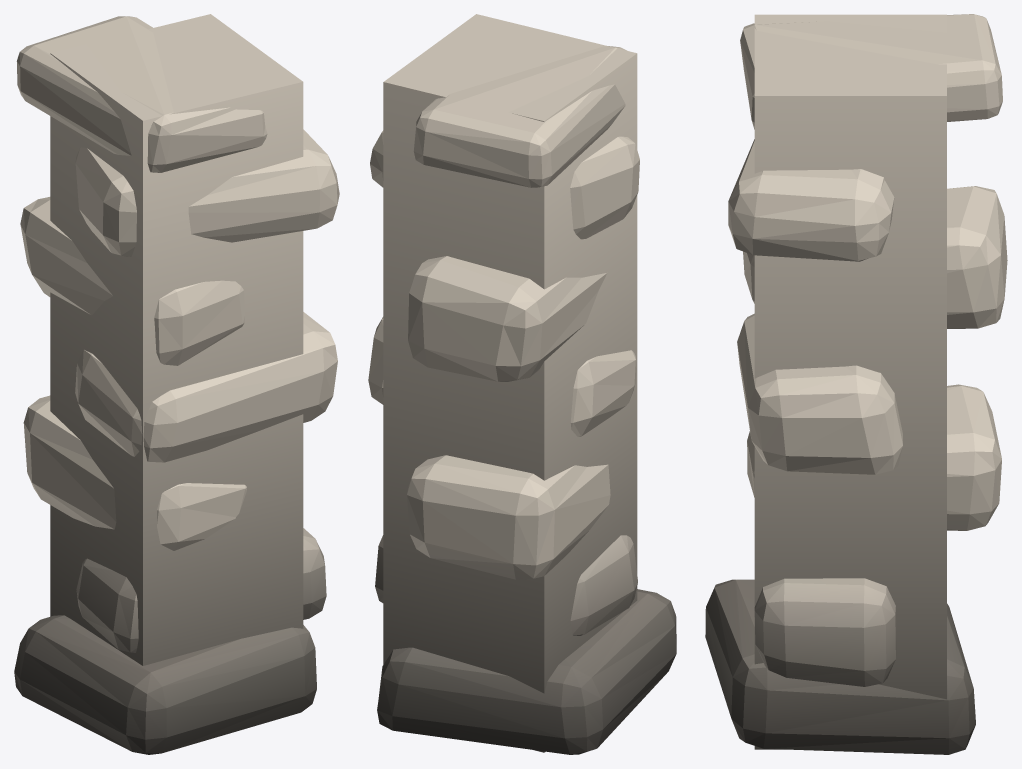
The model's file is SM_VK_Corner_Stone.fbx.
3 renders of one model, left to right at view 1: azimuth 30°, elevation 25°; view 2: azimuth 150°, elevation 25°; view 3: azimuth 270°, elevation 25°, orthographic. The views are drawn at different scales.
Visible parts, largest first — view 1: SM_VK_Corner_Stone.001; view 2: SM_VK_Corner_Stone.001; view 3: SM_VK_Corner_Stone.001.
Part boxes in pixels (<box>): SM_VK_Corner_Stone.001: <box>14,14,339,754</box>; SM_VK_Corner_Stone.001: <box>368,14,676,754</box>; SM_VK_Corner_Stone.001: <box>705,14,1007,754</box>.
Bounding box in the file's own units: 1.27 × 3.06 × 1.26.
